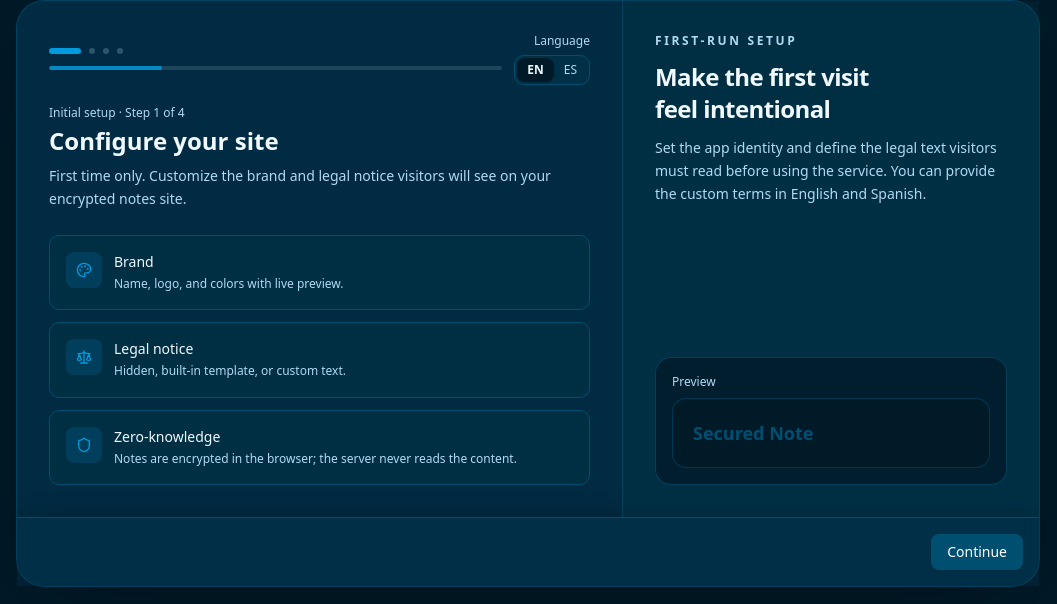
Test case: ProjectSetupModal › switches locale with language pills
The width and height of the screenshot is (1057, 604).
Later steps or results of the test are not shown.
Click the button "ES" at (570, 70), box [554,58,587,82]
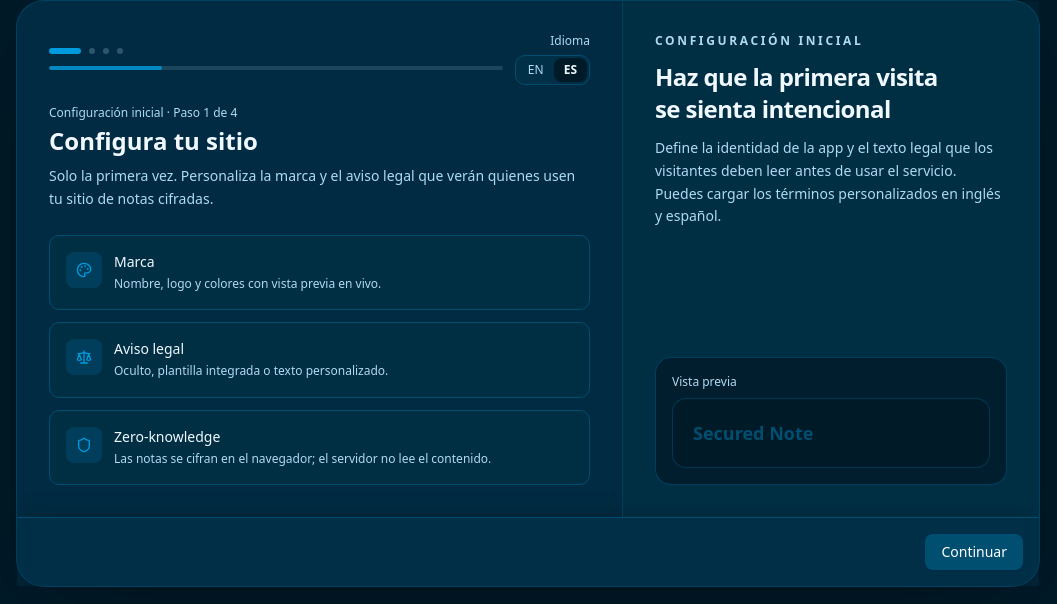
expect the button "Continuar" is shown: met, box [925,534,1023,570]
